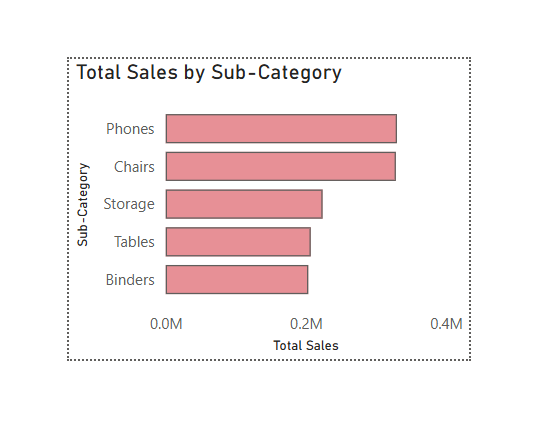

This screenshot's page, from the dashboard's own definition file:
{"tool":"powerbi","page":{"name":"Tooltip","canvas":[320,240],"ordinal":2},"visuals":[{"type":"barChart","title":"Total Sales by Sub-Category","fields":{"Category":["Superstore.Sub-Category"],"Y":["Sum(Superstore.Sales)"]},"box":[0,0,320,240],"z":0}]}

Visuals, with their boxes on the page's 320x240 design canvas (x1, y1, x2, y2). These are canvas units, not pixel positions in the 560x437 screenshot, which may show the page scaled, cropped or inside an application window:
"Total Sales by Sub-Category" barChart: 0, 0, 320, 240
